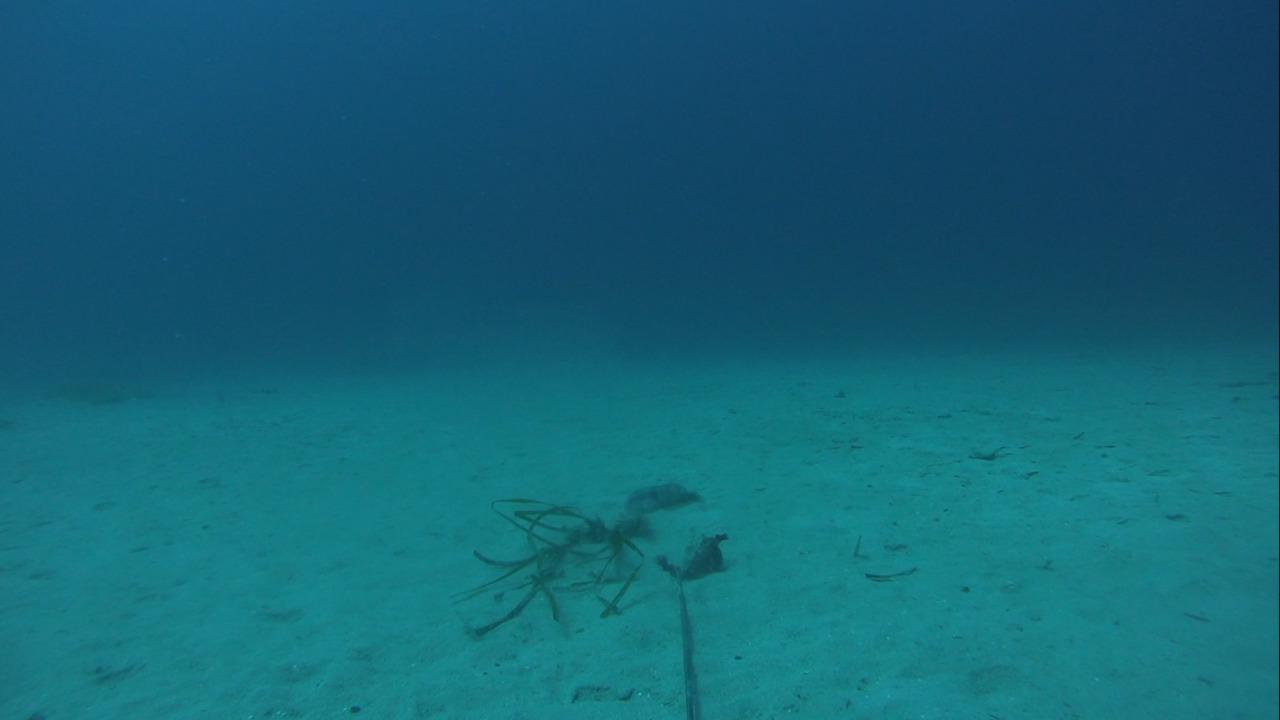raor: (617, 476, 707, 512)
